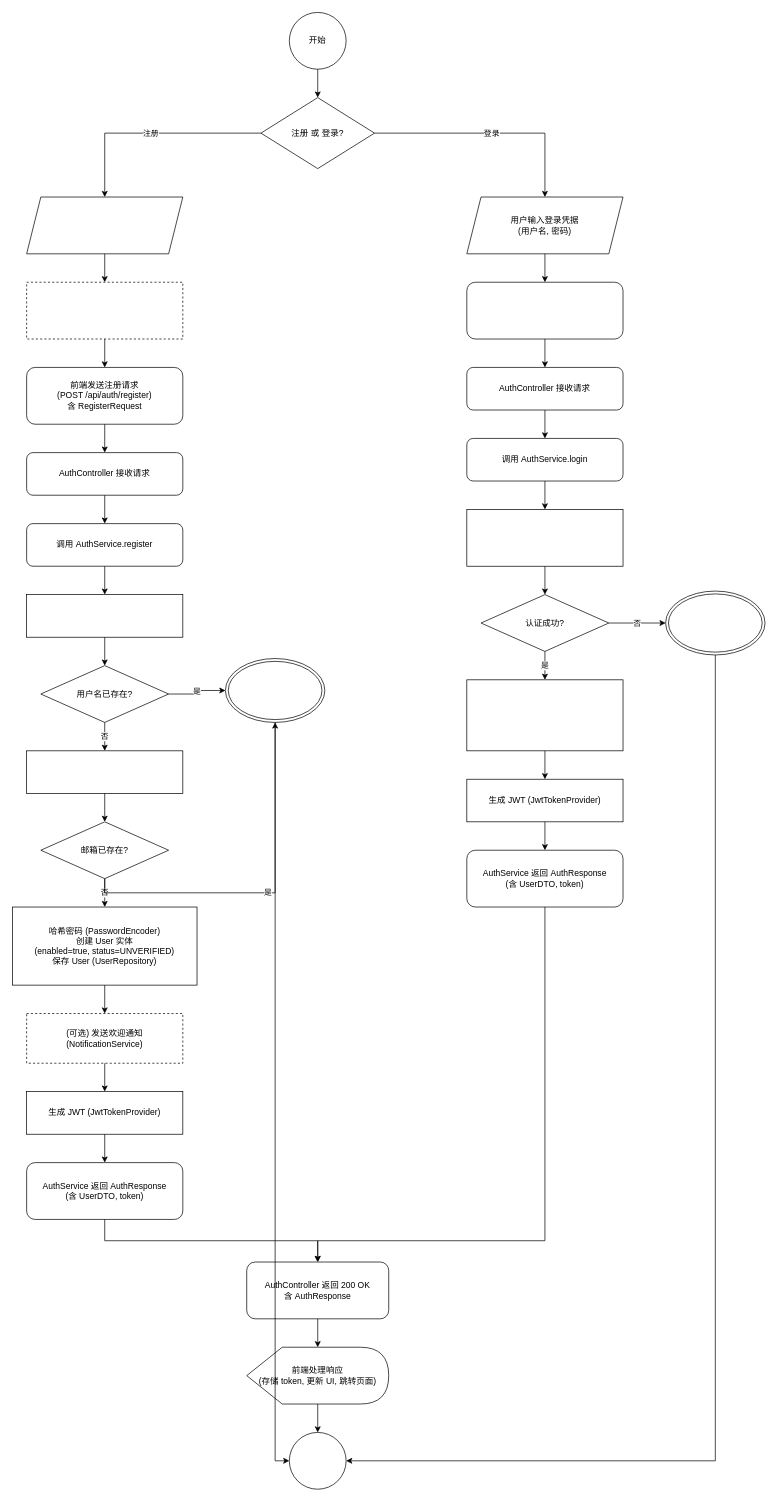
This 777x1502 diagram has some shape labels left out. The shapes that lost their labels are listed below. From the top down, each one's box as (x1, y1, x2, y2) in pixels, then its label:
(26, 196, 183, 254): 用户输入注册信息 (用户名, 邮箱, 密码等)
(26, 282, 183, 339): (可选) 前端检查用户名/邮箱格式, 调用 /check-username, /check-email
(466, 282, 623, 339): 前端发送登录请求 (POST /api/auth/login) 含 AuthRequest
(466, 509, 623, 566): 调用 AuthenticationManager.authenticate (验证用户名和密码)
(26, 594, 183, 637): 检查用户名是否存在 (UserRepository)
(665, 590, 765, 655): 返回错误信息 (凭据无效)
(225, 658, 325, 722): 返回错误信息 (用户名/邮箱已存在)
(466, 679, 623, 751): 获取 User 实体 (UserRepository) 更新 lastLogin 时间 保存 User
(26, 750, 183, 793): 检查邮箱是否存在 (UserRepository)
(289, 1432, 346, 1489): 结束 (已认证/出错)
